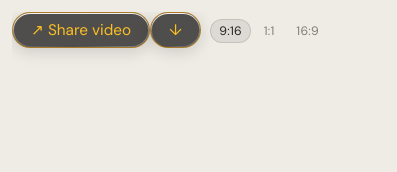
Test case: done state › falls back to download + caption copy without navigator.share
Click the button "↗ Share video" at (81, 30), box x1=12 y1=12 x2=150 y2=48
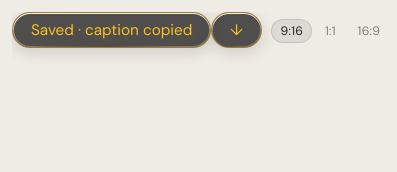
Expected: the button "Saved · caption copied" is shown, x1=12 y1=12 x2=211 y2=48
